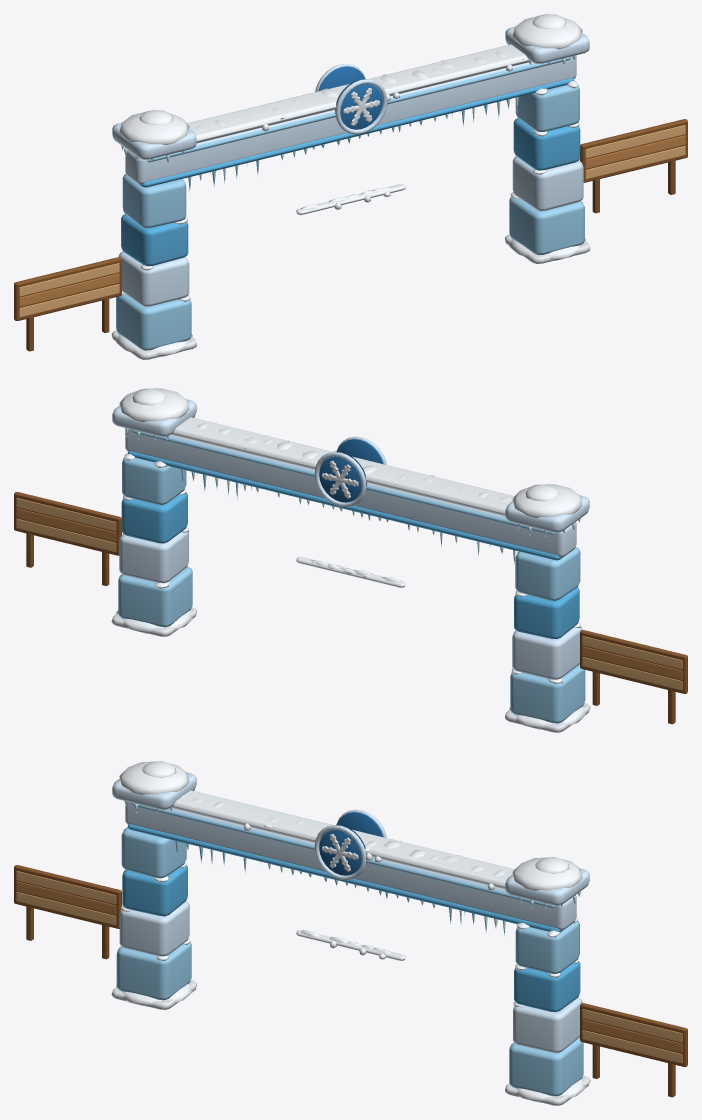
File: PlotArch.fbx
3 renders of one model, top to bottom at view 1: azimuth 30°, elevation 25°; view 2: azimuth 150°, elevation 25°; view 3: azimuth 330°, elevation 25°, orthographic.
Visible parts, largest first — view 1: PlotArchIce, PlotArchSnow, PlotArchWood, PlotArchTrim; view 2: PlotArchIce, PlotArchSnow, PlotArchWood, PlotArchTrim; view 3: PlotArchIce, PlotArchSnow, PlotArchWood, PlotArchTrim.
Boxes of the visible parts, <box> form: PlotArchIce: <box>112,26,589,350</box>; PlotArchSnow: <box>116,14,585,356</box>; PlotArchWood: <box>14,119,687,351</box>; PlotArchTrim: <box>111,234,590,359</box>; PlotArchIce: <box>112,399,589,723</box>; PlotArchSnow: <box>116,388,585,729</box>; PlotArchWood: <box>14,492,687,724</box>; PlotArchTrim: <box>111,607,590,732</box>; PlotArchIce: <box>112,772,589,1096</box>; PlotArchSnow: <box>116,761,585,1102</box>; PlotArchWood: <box>14,865,687,1097</box>; PlotArchTrim: <box>111,980,590,1105</box>.
Size of the model in its own units: 856 by 282 by 86.4.
